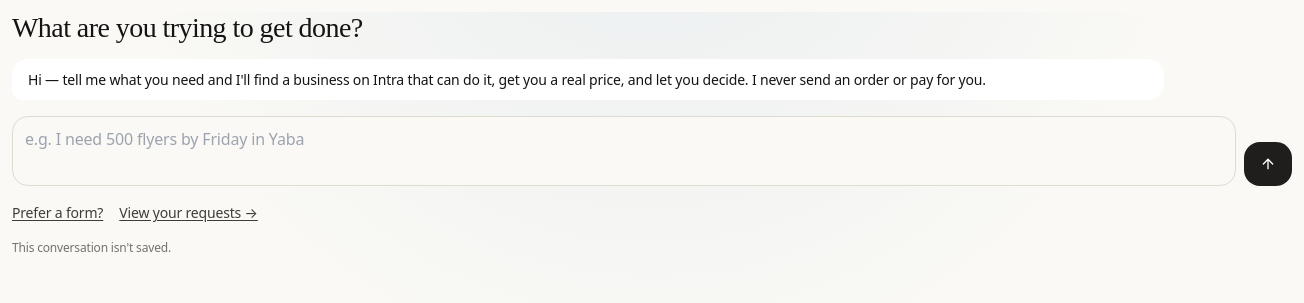
Scenario: ConversationView › shows an understandable error and keeps the draft when the send fails
Type "200 flyers by Friday" into the text box named "message" at (624,151), box [12,116,1236,186]
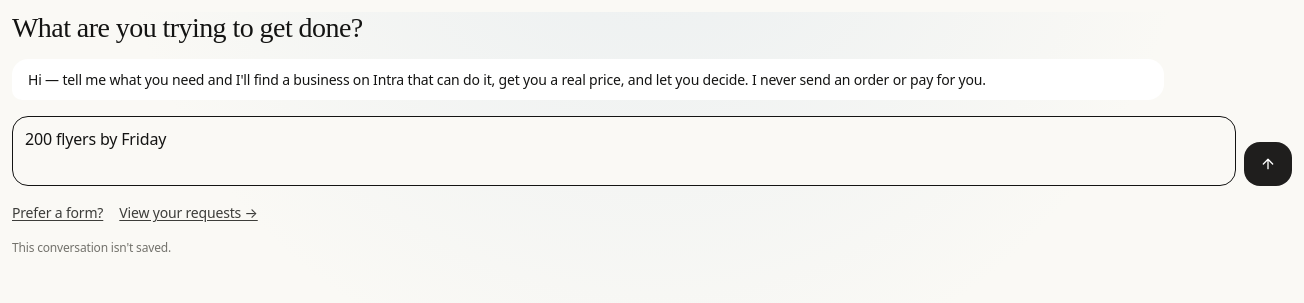
Click the button named "send" at (1268,164), box [1244,142,1292,186]
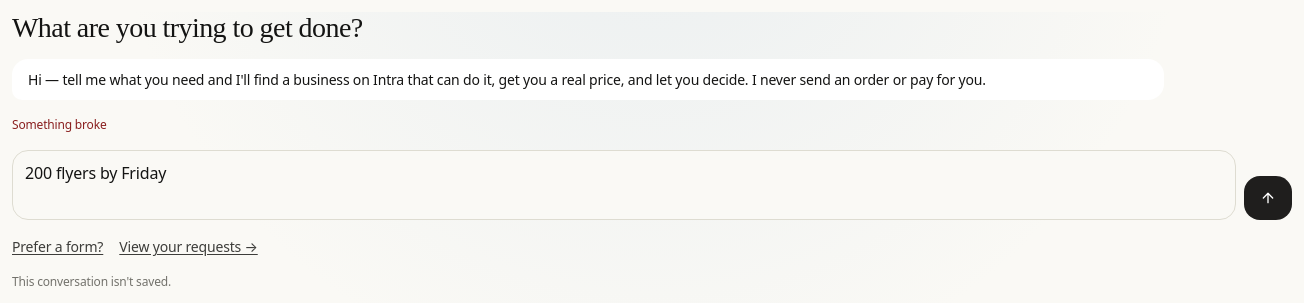
Check: the message reads "Something broke", box [12,116,106,133]
